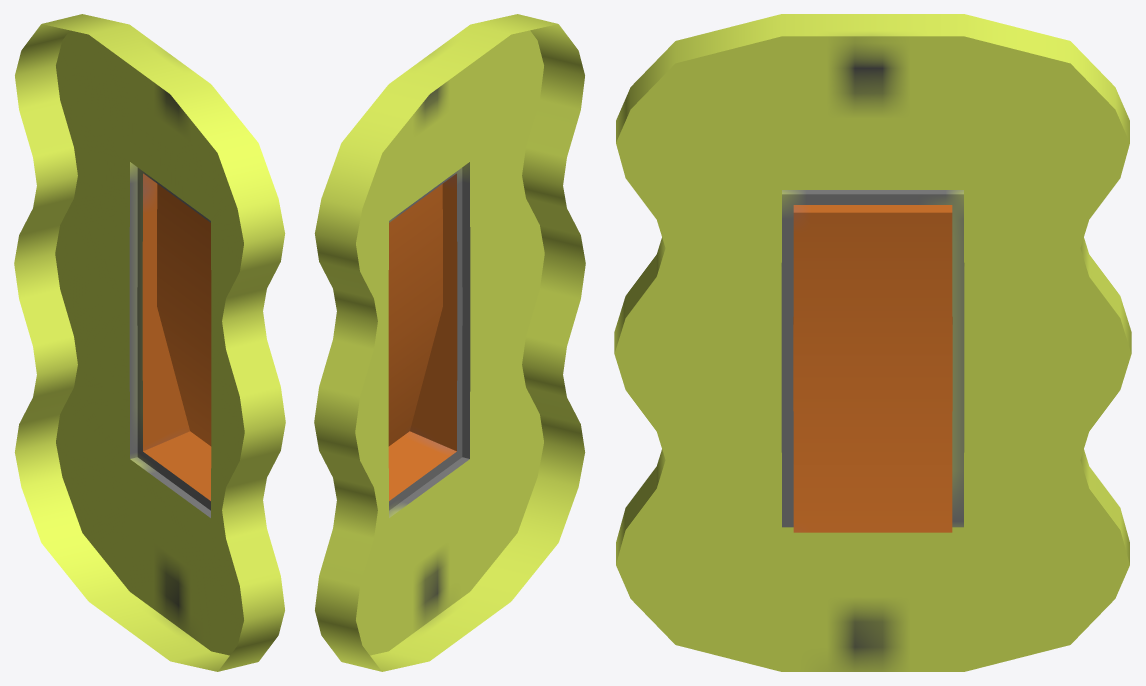
File: Prop_072_Lightswitch.fbx
3 views of the same model, side by side, from view 1: azimuth 30°, elevation 25°; view 2: azimuth 150°, elevation 25°; view 3: azimuth 270°, elevation 25° (orthographic). The views are drawn at different scales.
Parts seen in each view (by area): view 1: Prop_072_Lightswitch; view 2: Prop_072_Lightswitch; view 3: Prop_072_Lightswitch.
Part boxes in pixels (x1,y1,x2,y2): Prop_072_Lightswitch: [14, 14, 285, 671]; Prop_072_Lightswitch: [314, 14, 585, 671]; Prop_072_Lightswitch: [614, 14, 1131, 671].
Size of the model in its own units: 0.0276 by 0.156 by 0.115.
1 material, 1 textured.
